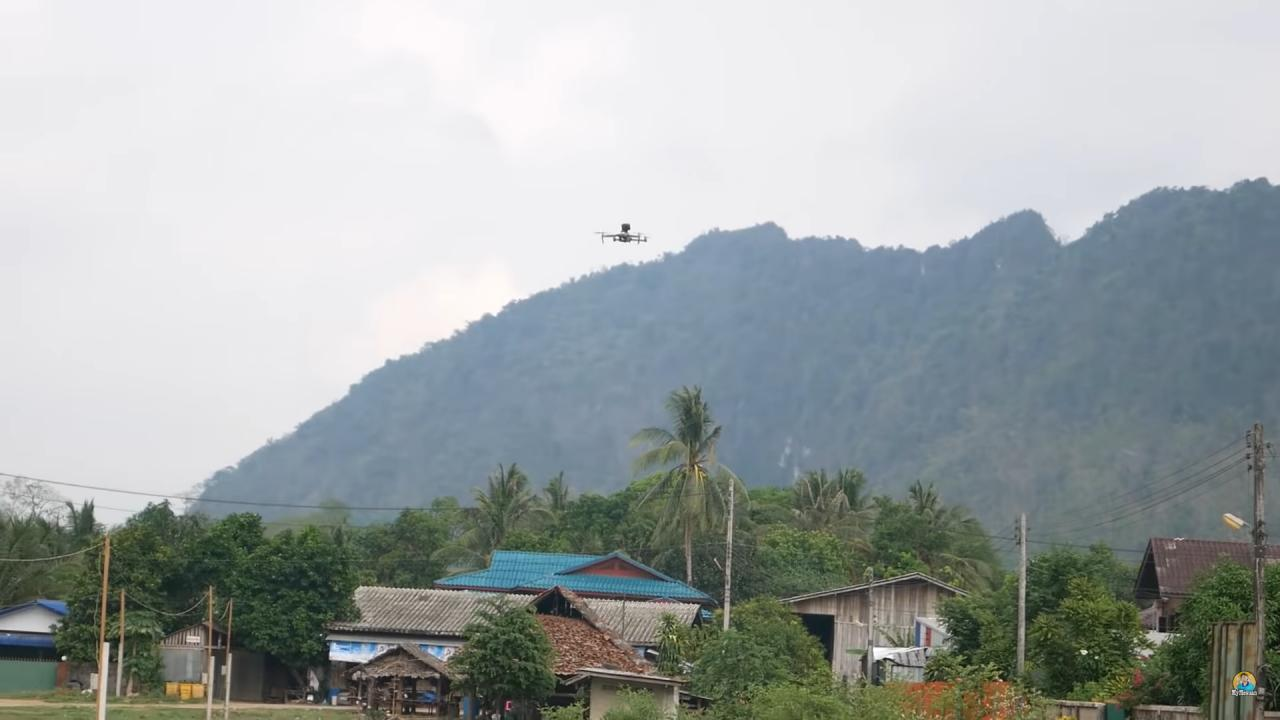Drone: (587, 211, 658, 259)
